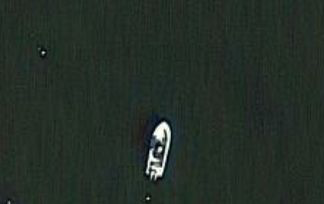boat: (142, 120, 175, 180)
